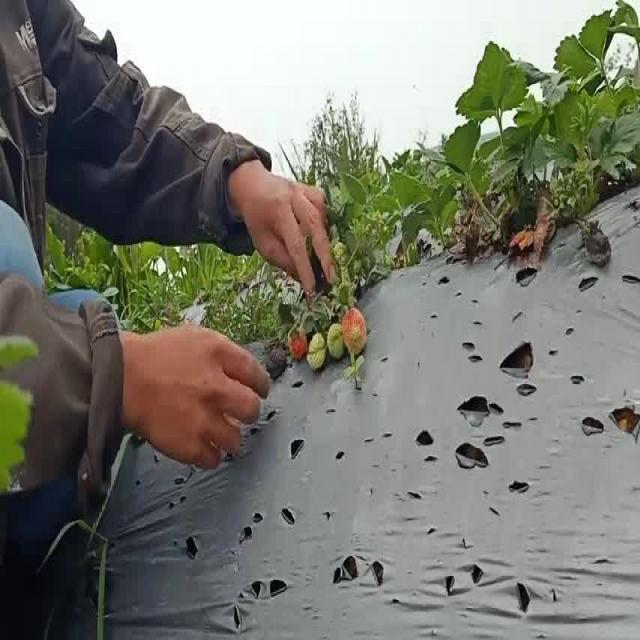Mancha negra Antracnosis: (580, 218, 614, 272), (264, 344, 292, 378)
